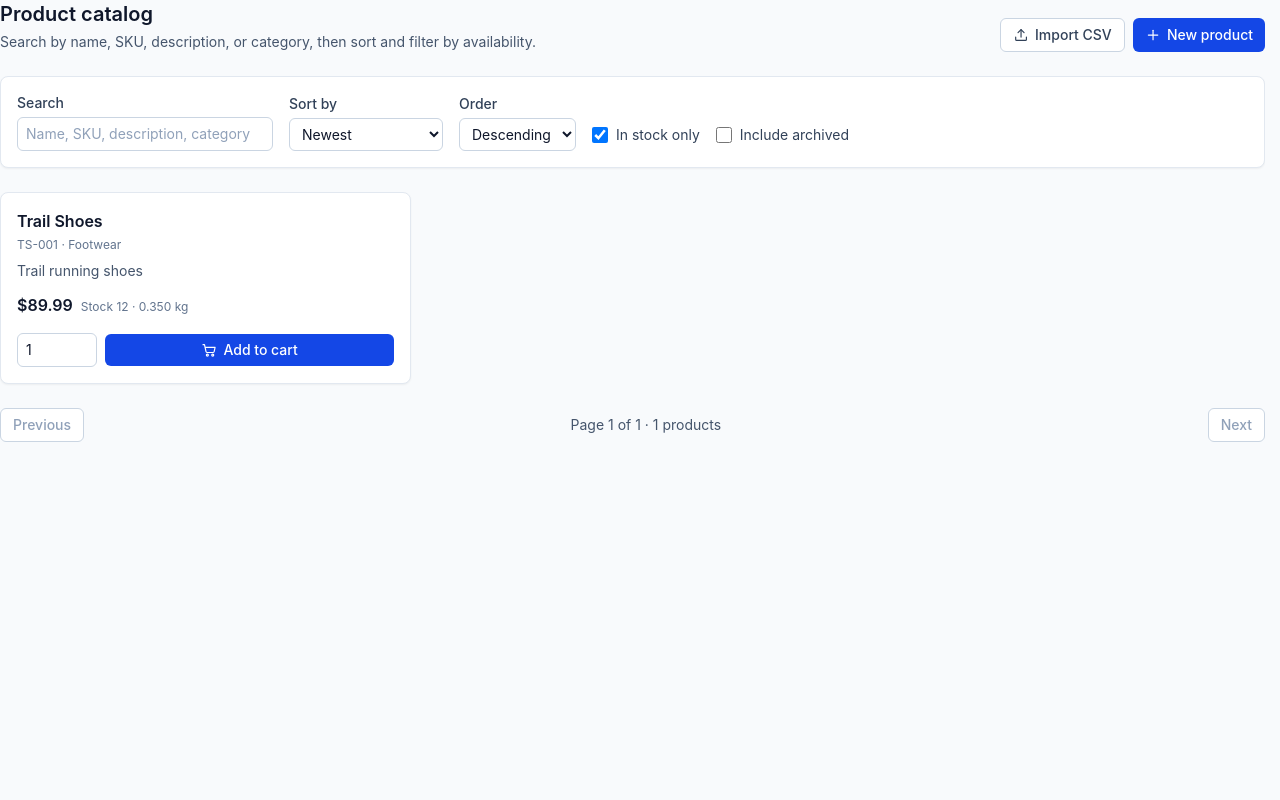
it: CatalogPage actions › opens the import modal from the header
Step 1. Click the button "Import CSV" → coordinates (1062, 35), box [1000,18,1125,52]
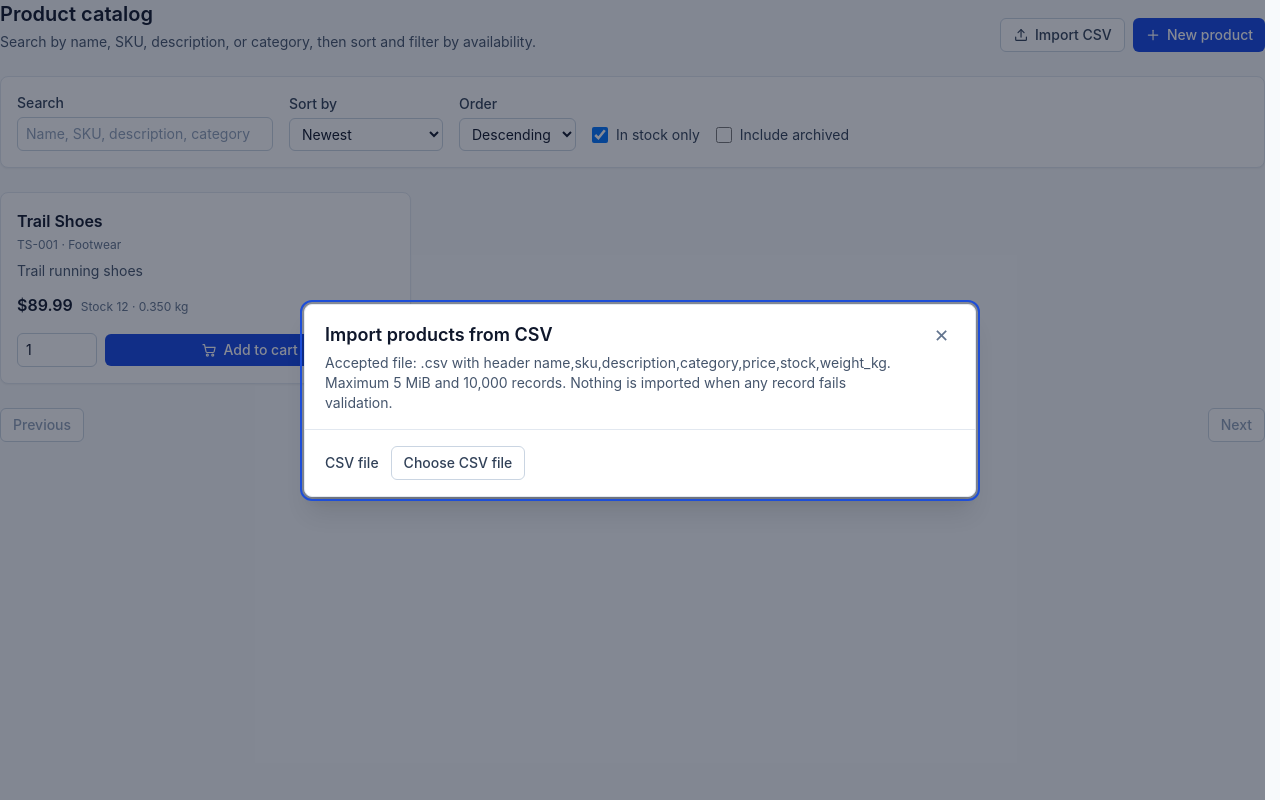
Expected: the dialog "Import products from CSV" is shown, [304,304,976,496]
